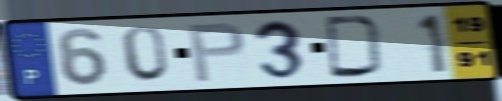0: (118, 25, 171, 85)
1: (415, 12, 451, 75)
3: (253, 16, 315, 83)
6: (54, 26, 109, 89)
D: (322, 14, 387, 79)
P: (185, 20, 249, 85)
